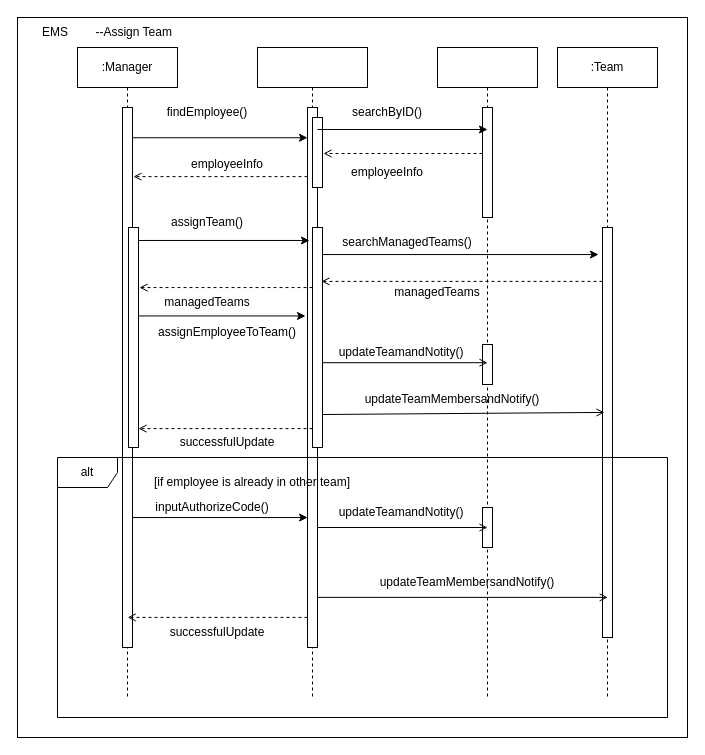
The diagram is 705 pixels wide and 755 high, and some of its shapes have lost their labels. Here are the shapes that lost their labels. From the top down, the box of each, then its label:
(256, 46, 368, 698): :System
(436, 46, 538, 698): :Employee
